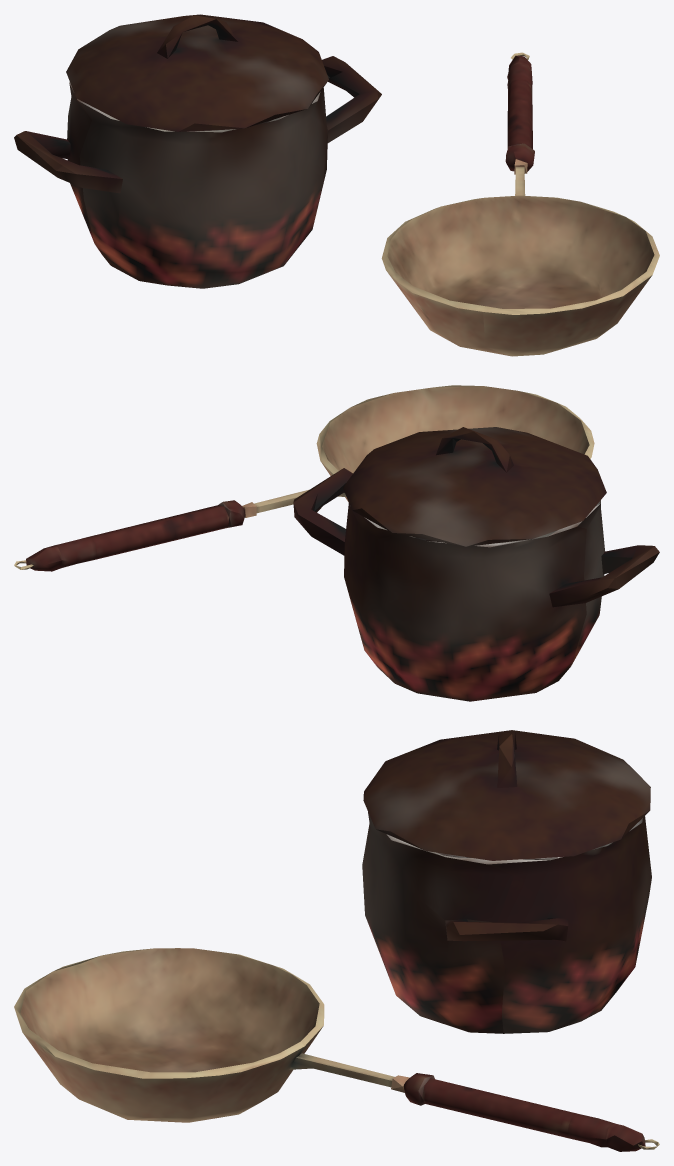
The model's file is Pans_Stove.fbx.
3 renders of one model, top to bottom at view 1: azimuth 30°, elevation 25°; view 2: azimuth 150°, elevation 25°; view 3: azimuth 270°, elevation 25°, orthographic. The views are drawn at different scales.
Visible parts, largest first — view 1: Pans_Stove; view 2: Pans_Stove; view 3: Pans_Stove.
Boxes of the visible parts, box(x1,y1,x2,y2) form: Pans_Stove: box(14, 14, 659, 356); Pans_Stove: box(14, 385, 659, 701); Pans_Stove: box(14, 730, 659, 1151).
Size of the model in its own units: 0.4461 by 0.1789 by 0.4046.
